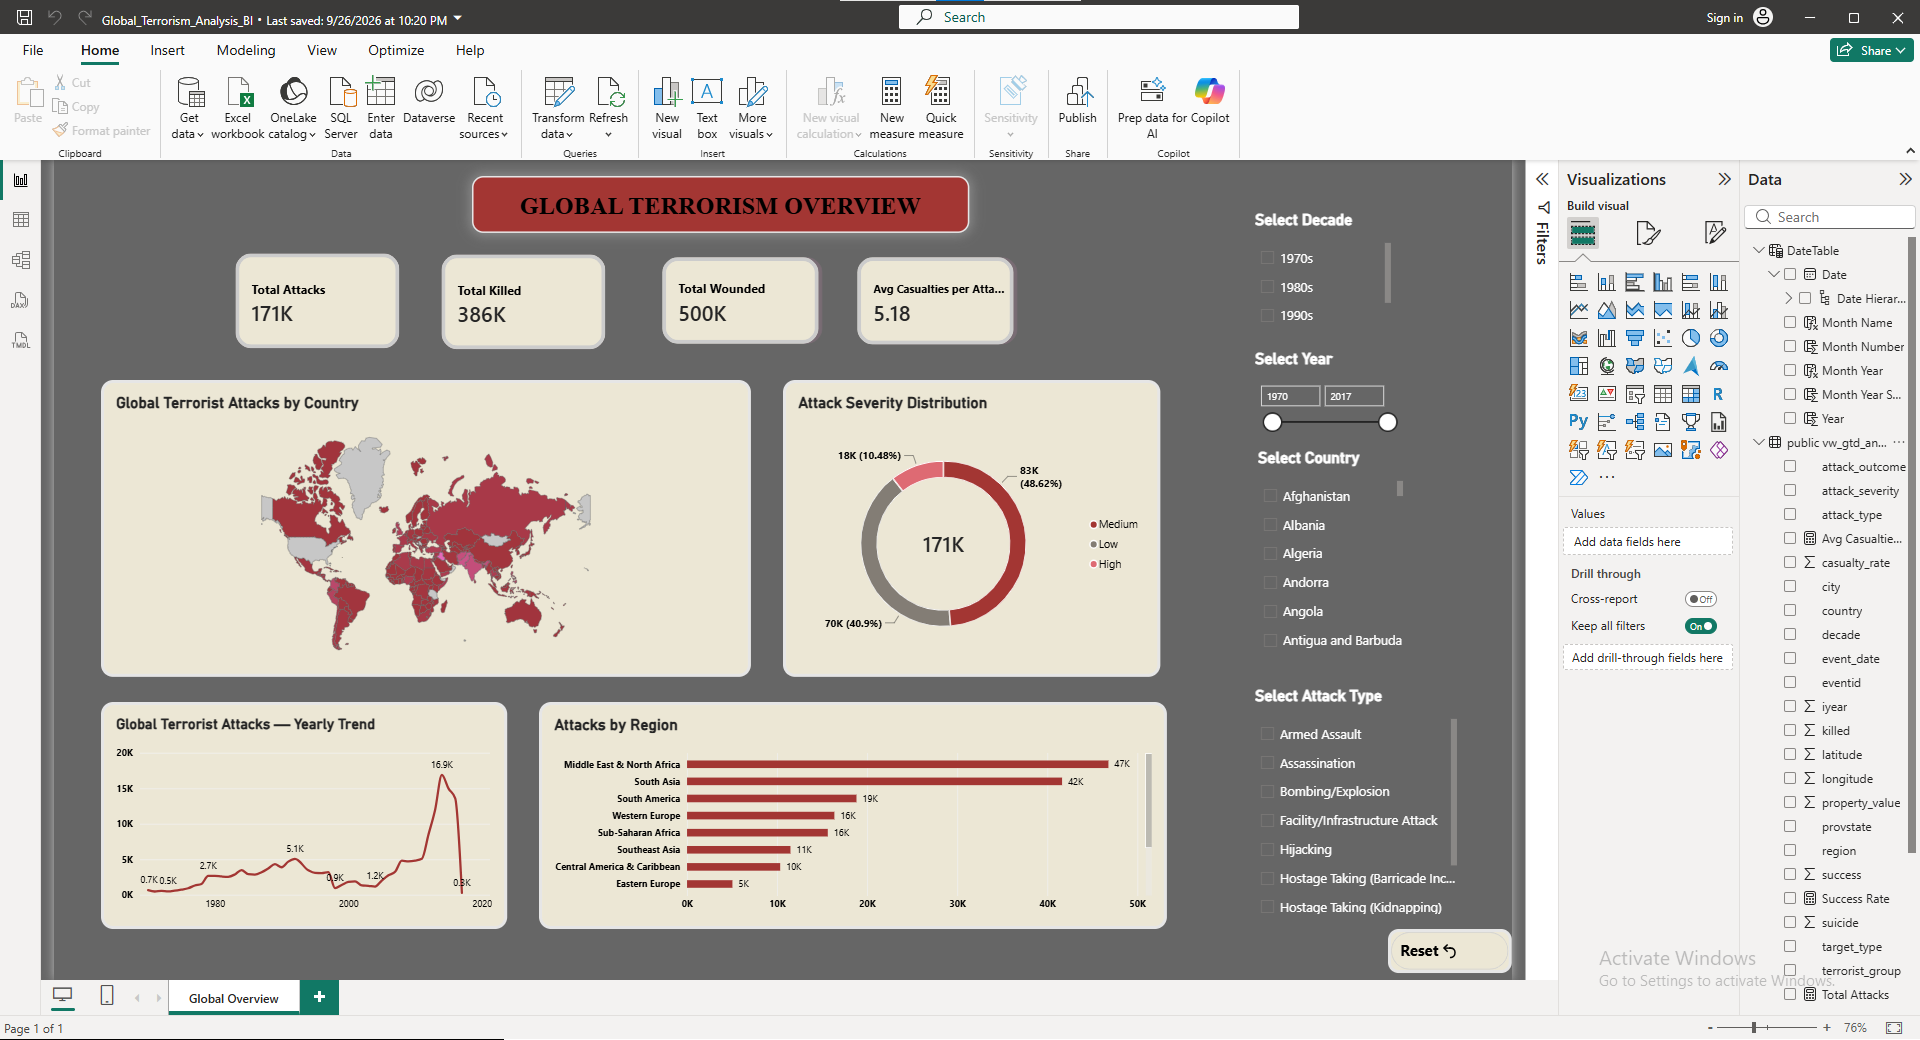

The dashboard page shown, as its layout file describes it:
{"tool":"powerbi","page":{"name":"Global Overview","canvas":[1920,1080],"ordinal":0},"visuals":[{"type":"cardVisual","fields":{"Data":["public vw_gtd_analysis.Total Attacks"]},"box":[238.9,122.2,217.5,126.2],"z":0},{"type":"cardVisual","fields":{"Data":["public vw_gtd_analysis.Total Killed"]},"box":[509.7,123.6,217.5,126.2],"z":1000},{"type":"cardVisual","fields":{"Data":["public vw_gtd_analysis.Total Wounded"]},"box":[795.5,122.5,217.3,125.1],"z":2000},{"type":"cardVisual","fields":{"Data":["public vw_gtd_analysis.Avg Casualties per Attack"]},"box":[1052.3,122.5,217.3,126.4],"z":3000},{"type":"lineChart","title":"Global Terrorist Attacks — Yearly Trend","fields":{"Category":["DateTable.Year"],"Y":["public vw_gtd_analysis.Total Attacks"]},"box":[61.9,713.9,534.7,299],"z":4000},{"type":"clusteredBarChart","title":"Attacks by Region","fields":{"Category":["public vw_gtd_analysis.region"],"Y":["public vw_gtd_analysis.Total Attacks"]},"box":[638.8,713.9,827.1,299],"z":5000},{"type":"donutChart","title":"Attack Severity Distribution","fields":{"Category":["public vw_gtd_analysis.attack_severity"],"Y":["public vw_gtd_analysis.Total Attacks"]},"box":[960.1,289.8,496.5,391.2],"z":6000},{"type":"shapeMap","title":"Global Terrorist Attacks by Country","fields":{"Category":["public vw_gtd_analysis.country"],"Value":["public vw_gtd_analysis.Total Attacks"]},"box":[61.9,289.8,856.1,391.2],"z":7000},{"type":"slicer","title":"Select Decade","fields":{"Values":["public vw_gtd_analysis.decade"]},"box":[1581.8,67.2,179.1,164.6],"z":8000},{"type":"slicer","title":"Select Year","fields":{"Values":["DateTable.Year"]},"box":[1581.8,250.2,191.4,172.9],"z":9000},{"type":"slicer","title":"Select Country","fields":{"Values":["public vw_gtd_analysis.country"]},"box":[1585.8,380.6,191,264.7],"z":10000},{"type":"slicer","title":"Select Attack Type","fields":{"Values":["public vw_gtd_analysis.attack_type"]},"box":[1581.8,694.1,266,299],"z":11000},{"type":"actionButton","box":[1757,1012.8,162.5,57.5],"z":12000},{"type":"textbox","box":[1770,275,150,173],"z":13000},{"type":"textbox","box":[550.5,21.1,654.6,75.1],"z":14000}]}

Visuals, with their boxes on the page's 1920x1080 design canvas (x1, y1, x2, y2). These are canvas units, not pixel positions in the 1920x1040 screenshot, which may show the page scaled, cropped or inside an application window:
cardVisual - public vw_gtd_analysis.Total Attacks: box=[239, 122, 456, 248]
cardVisual - public vw_gtd_analysis.Total Killed: box=[510, 124, 727, 250]
cardVisual - public vw_gtd_analysis.Total Wounded: box=[796, 122, 1013, 248]
cardVisual - public vw_gtd_analysis.Avg Casualties per Attack: box=[1052, 122, 1270, 249]
"Global Terrorist Attacks — Yearly Trend" lineChart: box=[62, 714, 597, 1013]
"Attacks by Region" clusteredBarChart: box=[639, 714, 1466, 1013]
"Attack Severity Distribution" donutChart: box=[960, 290, 1457, 681]
"Global Terrorist Attacks by Country" shapeMap: box=[62, 290, 918, 681]
"Select Decade" slicer: box=[1582, 67, 1761, 232]
"Select Year" slicer: box=[1582, 250, 1773, 423]
"Select Country" slicer: box=[1586, 381, 1777, 645]
"Select Attack Type" slicer: box=[1582, 694, 1848, 993]
actionButton: box=[1757, 1013, 1920, 1070]
textbox: box=[1770, 275, 1920, 448]
textbox: box=[550, 21, 1205, 96]
